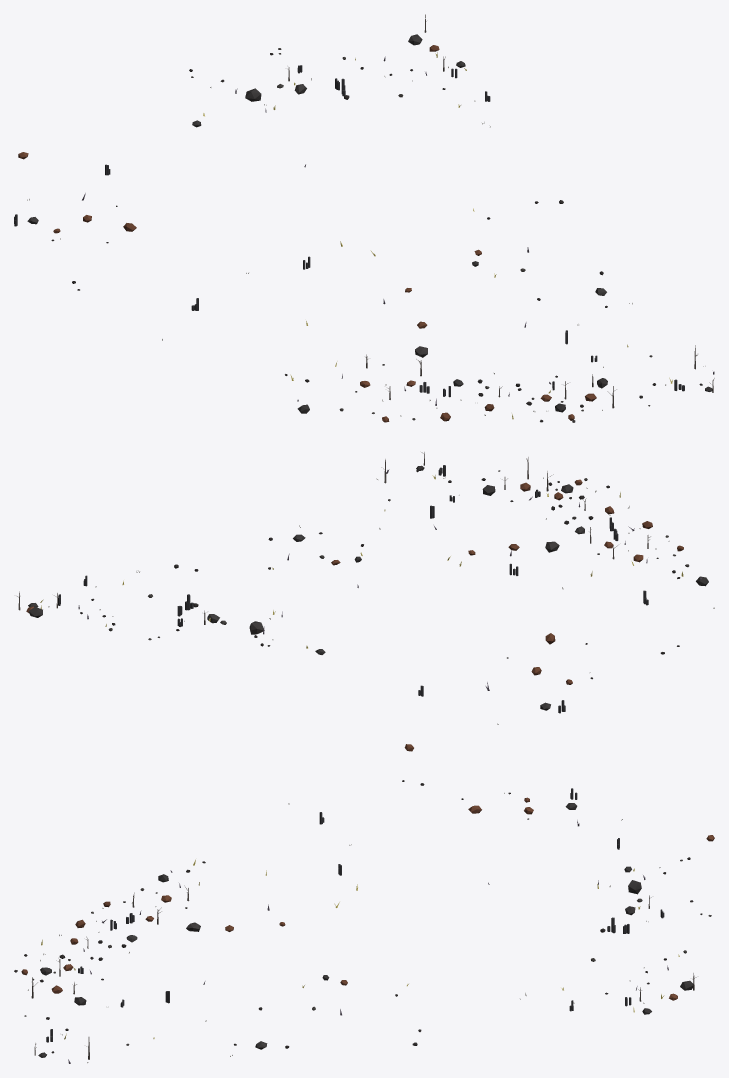
The model's file is ash_land_scatter_c17_28_lod1.glb.
The picture shows the model from 3 angles, top to bottom: view 1: azimuth 30°, elevation 25°; view 2: azimuth 150°, elevation 25°; view 3: azimuth 270°, elevation 25°; orthographic projection. The views are drawn at different scales.
Visible parts, largest first — view 1: ash_land_scatter_c17_28_lod1; view 2: ash_land_scatter_c17_28_lod1; view 3: ash_land_scatter_c17_28_lod1.
Part boxes in pixels (x1,y1,x2,y2): ash_land_scatter_c17_28_lod1: (14, 14, 714, 422); ash_land_scatter_c17_28_lod1: (17, 452, 714, 751); ash_land_scatter_c17_28_lod1: (14, 780, 714, 1063).
Bounding box in the file's own units: 200 × 44.52 × 246.
